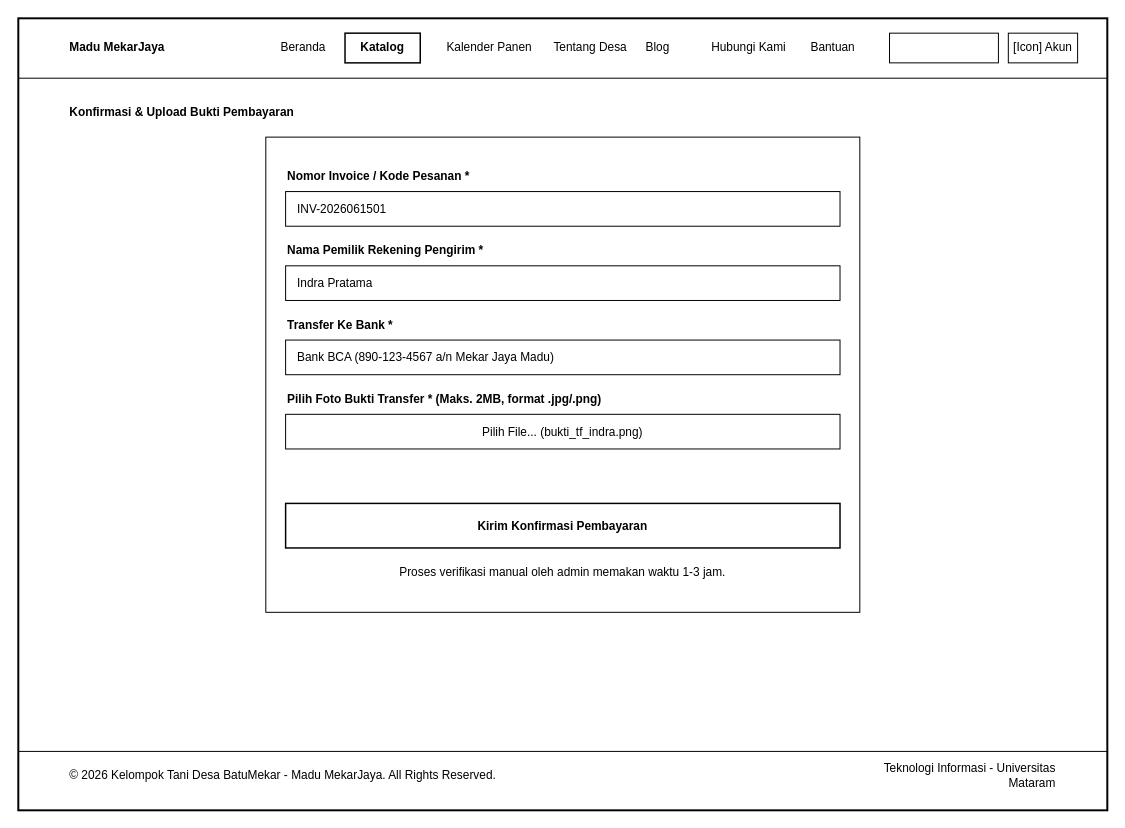
The diagram is 1125 pixels wide and 828 high, and some of its shapes have lost their labels. Each missing label, with the box of its shape:
[Icon] Keranjang (2): (889, 32, 998, 63)
FORMULIR KONFIRMASI PEMBAYARAN: (265, 136, 860, 612)
